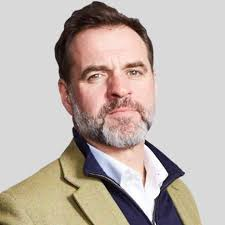white_male: (60, 41, 155, 156)
